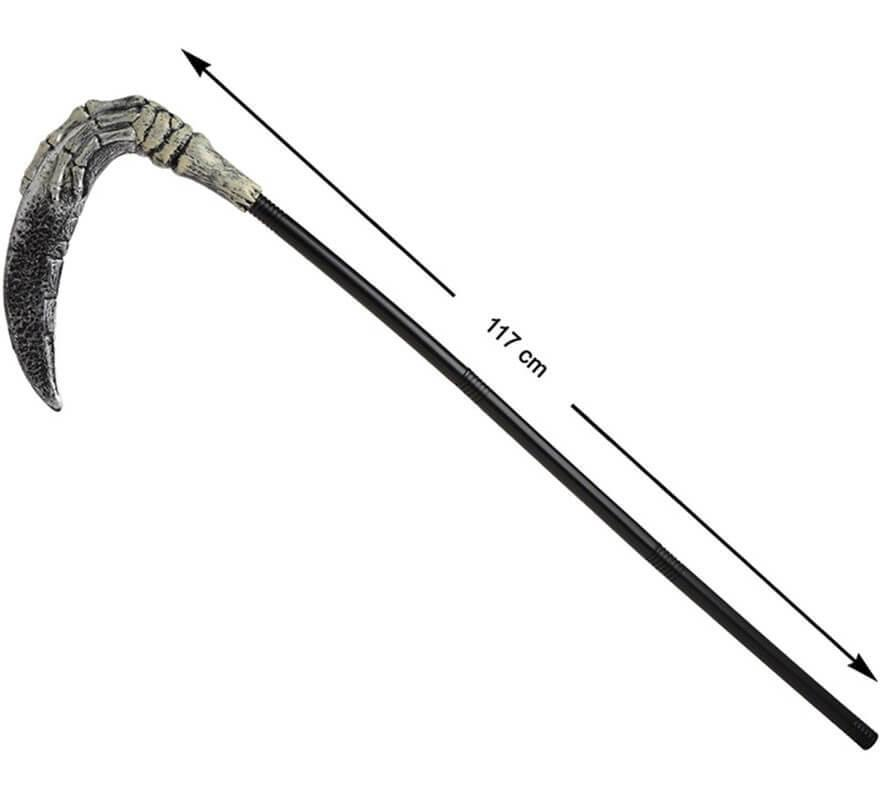foice: (4, 96, 876, 748)
